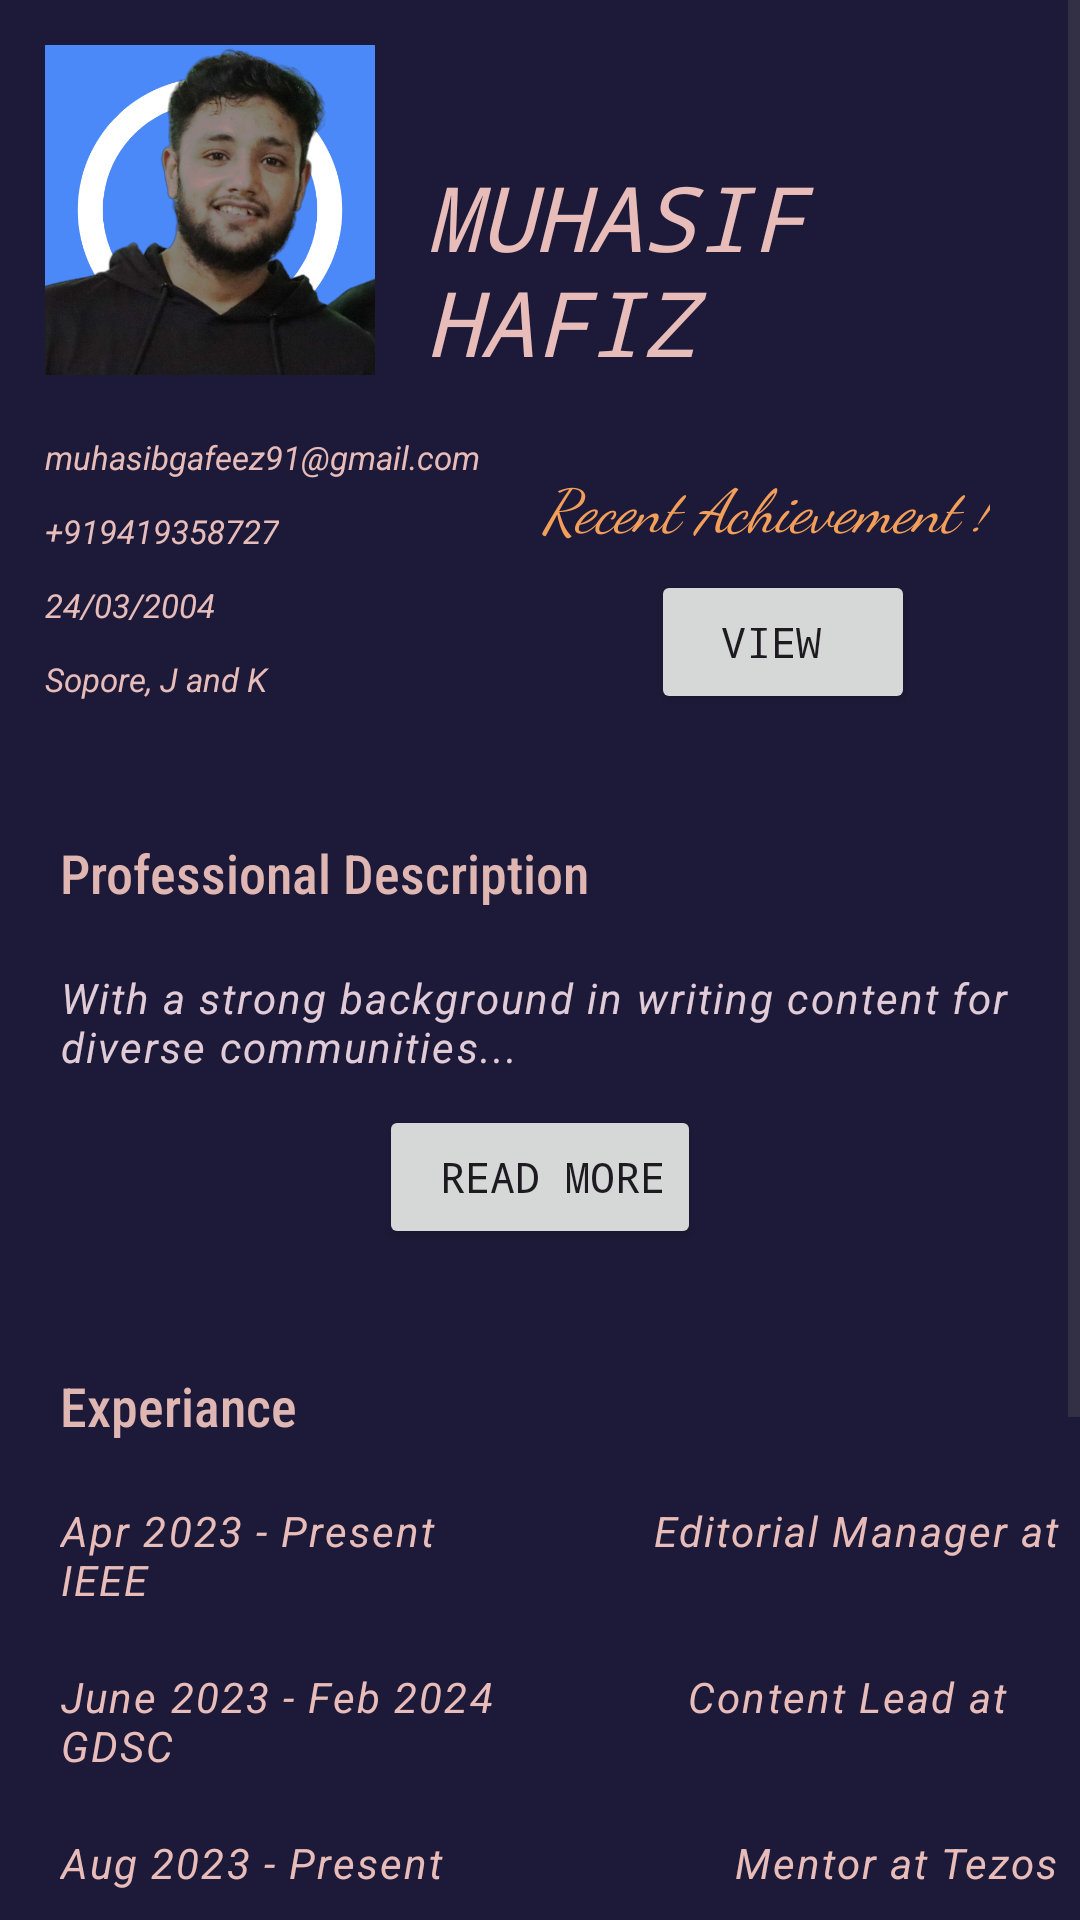

Icons on this 1080w x 1920h Android screen, each with its box as (left=x1, top=y1, right=x2, bottom=y2):
profile: (left=45, top=45, right=375, bottom=375)
